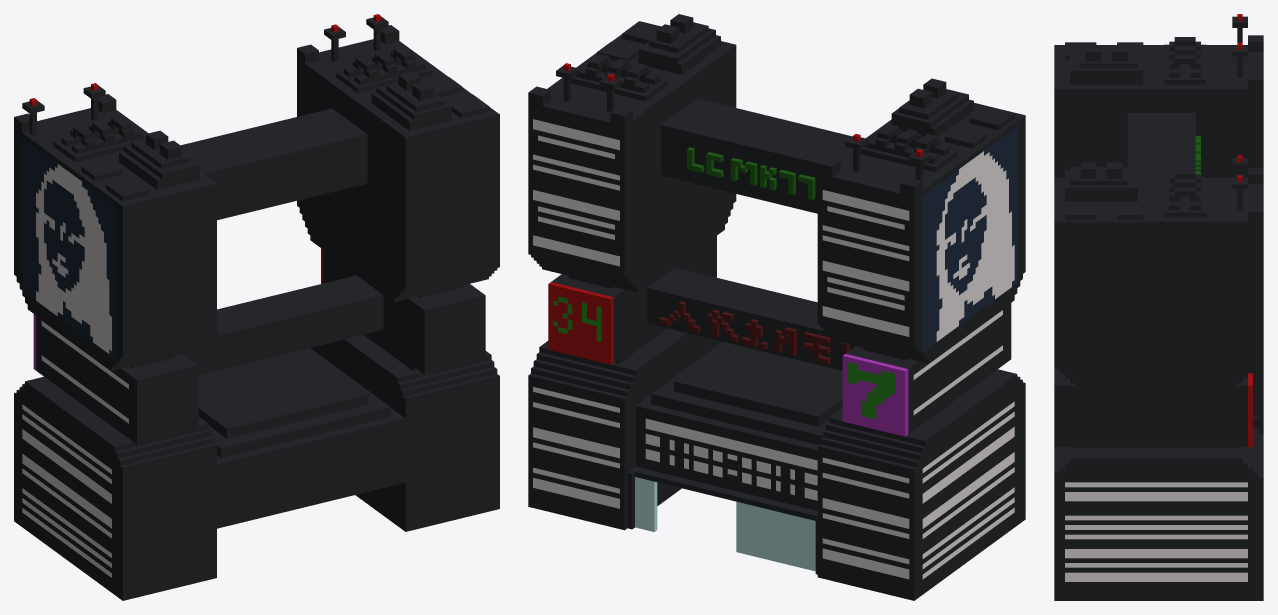
File: torinoCyberPunk-4.obj
3 views of the same model, side by side, from view 1: azimuth 30°, elevation 25°; view 2: azimuth 150°, elevation 25°; view 3: azimuth 270°, elevation 25° (orthographic). The views are drawn at different scales.
Size of the model in its own units: 8 by 8.7 by 4.
1 material, 1 textured.
